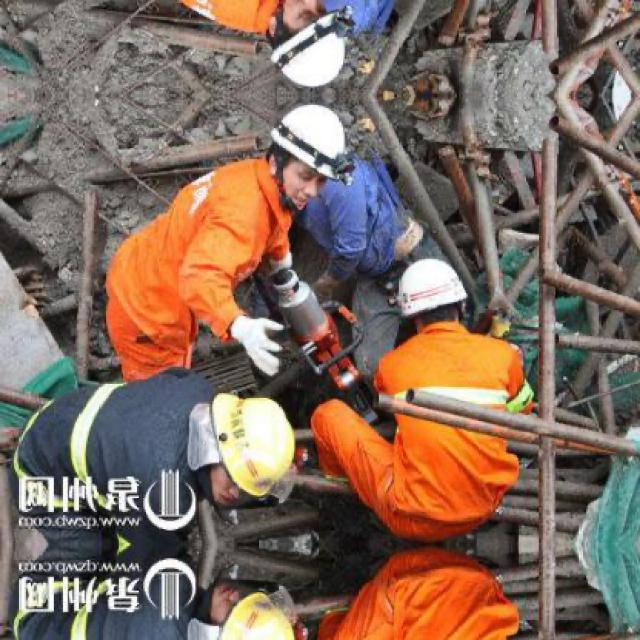con casco: (181, 365, 322, 512), (218, 105, 384, 220), (416, 261, 510, 320)
